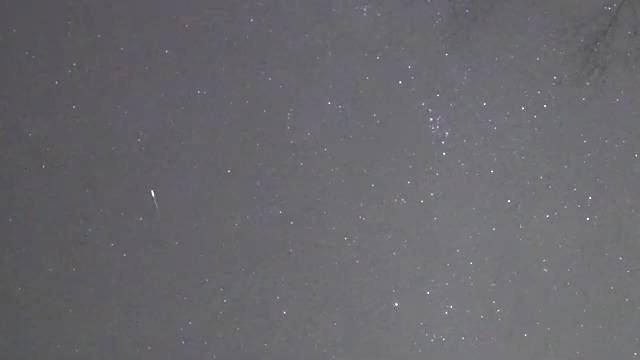meteorite: (137, 184, 168, 214)
